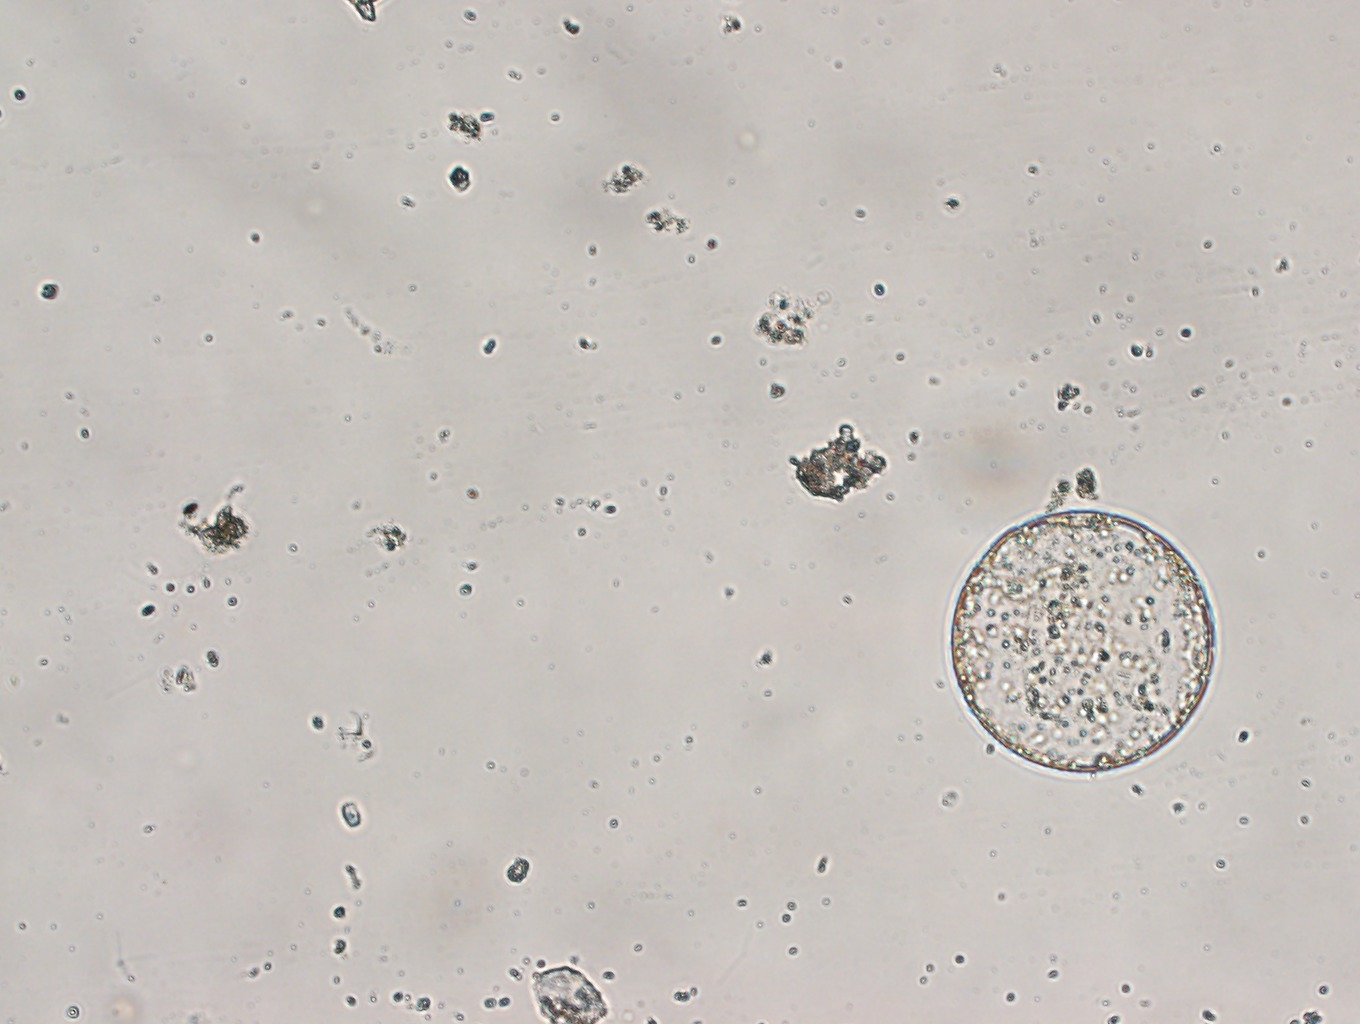coscinodiscus: (942, 504, 1222, 784)
